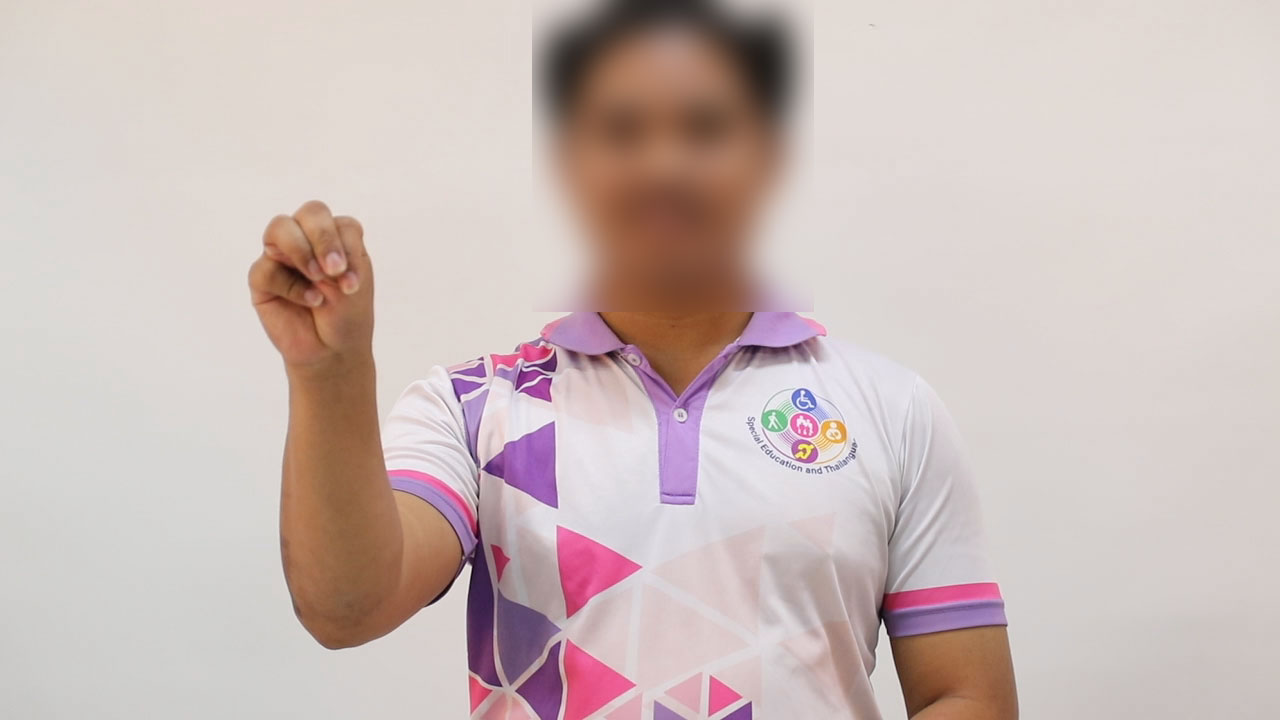mor: (227, 185, 395, 376)
